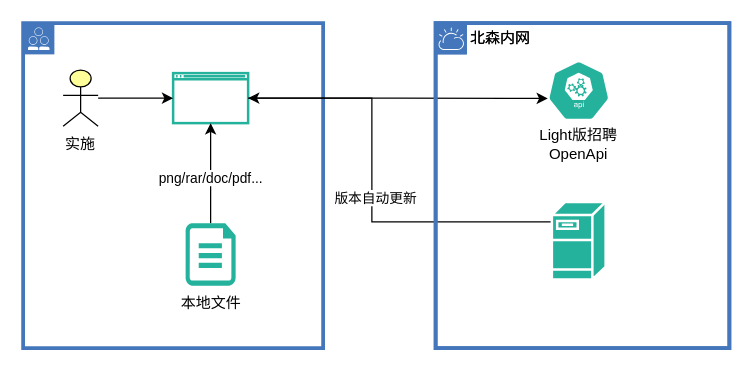
Some shapes in this 753 by 371 pixel diagram are drawn without their labels. Here are the shapes that lost their labels. From the top down, the box of each, then its label:
(171, 71, 249, 124): 简历同步工具
(550, 200, 606, 280): 应用版本服务器
